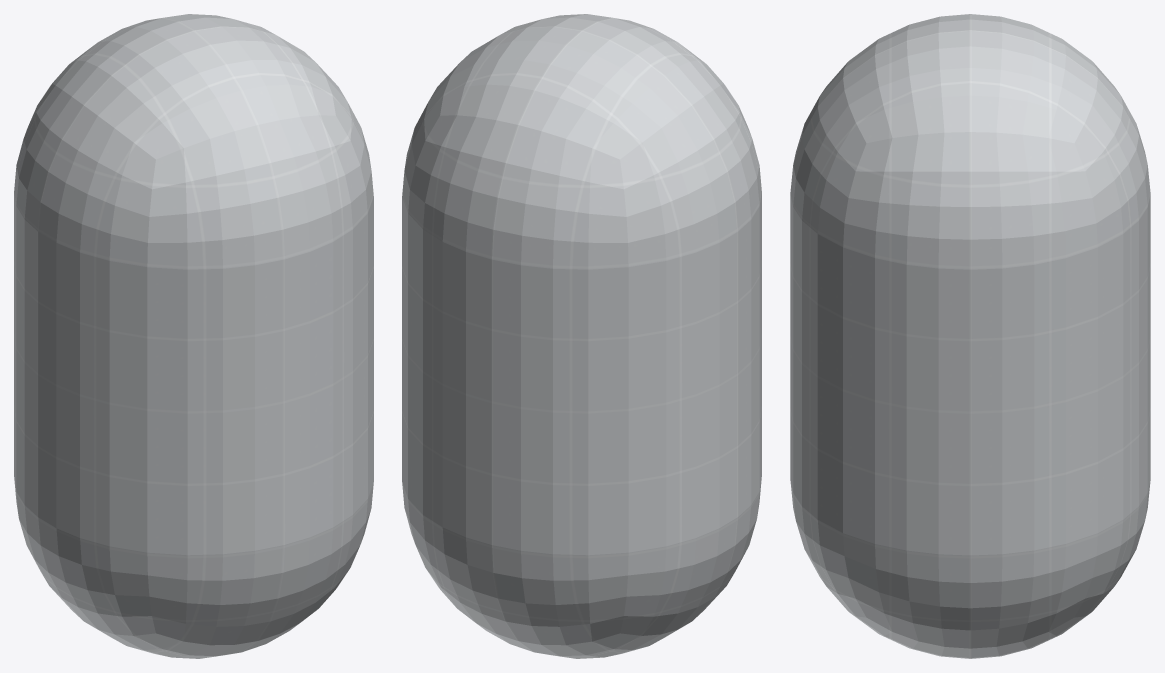
The picture shows the model from 3 angles, left to right: view 1: azimuth 30°, elevation 25°; view 2: azimuth 150°, elevation 25°; view 3: azimuth 270°, elevation 25°; orthographic projection.
Visible parts, largest first — view 1: Roundcube; view 2: Roundcube; view 3: Roundcube.
Part boxes in pixels (box(x1,y1,x2,y2)): Roundcube: box(14, 14, 373, 658); Roundcube: box(402, 14, 761, 658); Roundcube: box(790, 14, 1150, 658).
Bounding box in the file's own units: 0.9615 × 1.8 × 0.9615.
1 material, 1 textured.
